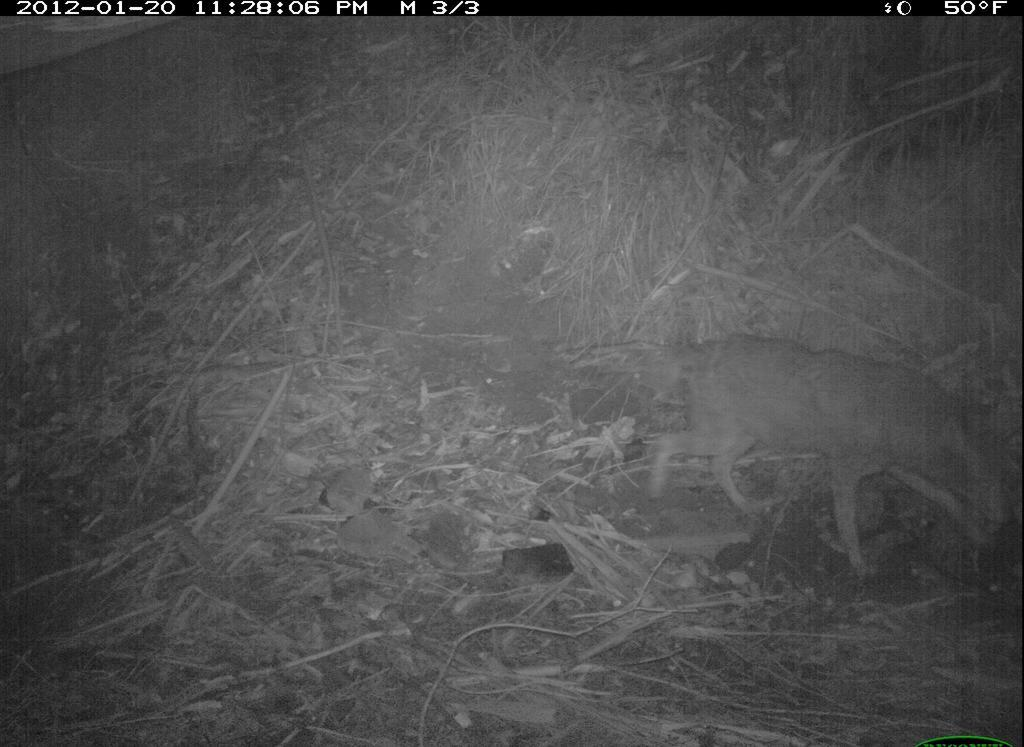coyote: (633, 318, 1014, 578)
